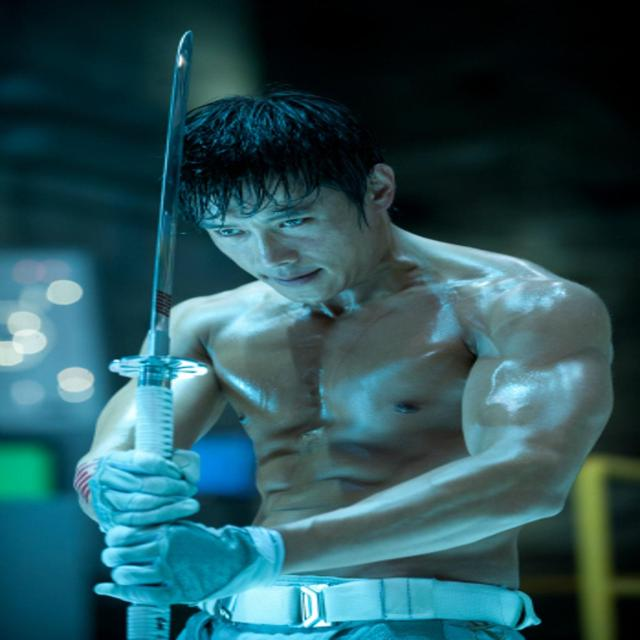Face: (177, 160, 381, 305)
